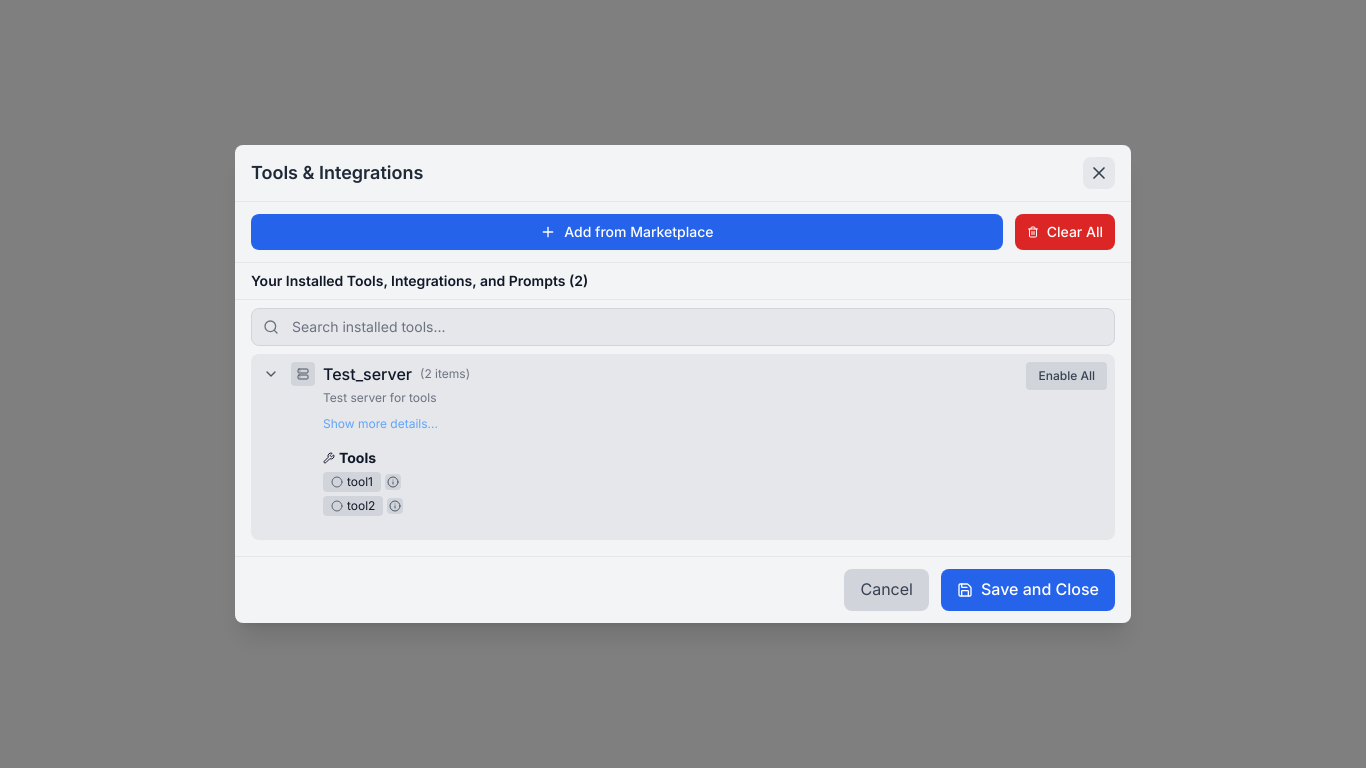
Test: ToolsPanel - Unsaved Changes Dialog › should cancel and stay open when clicking Cancel in dialog
// Make a change
Click the button "tool1" at (352, 482), box [323,472,381,492]
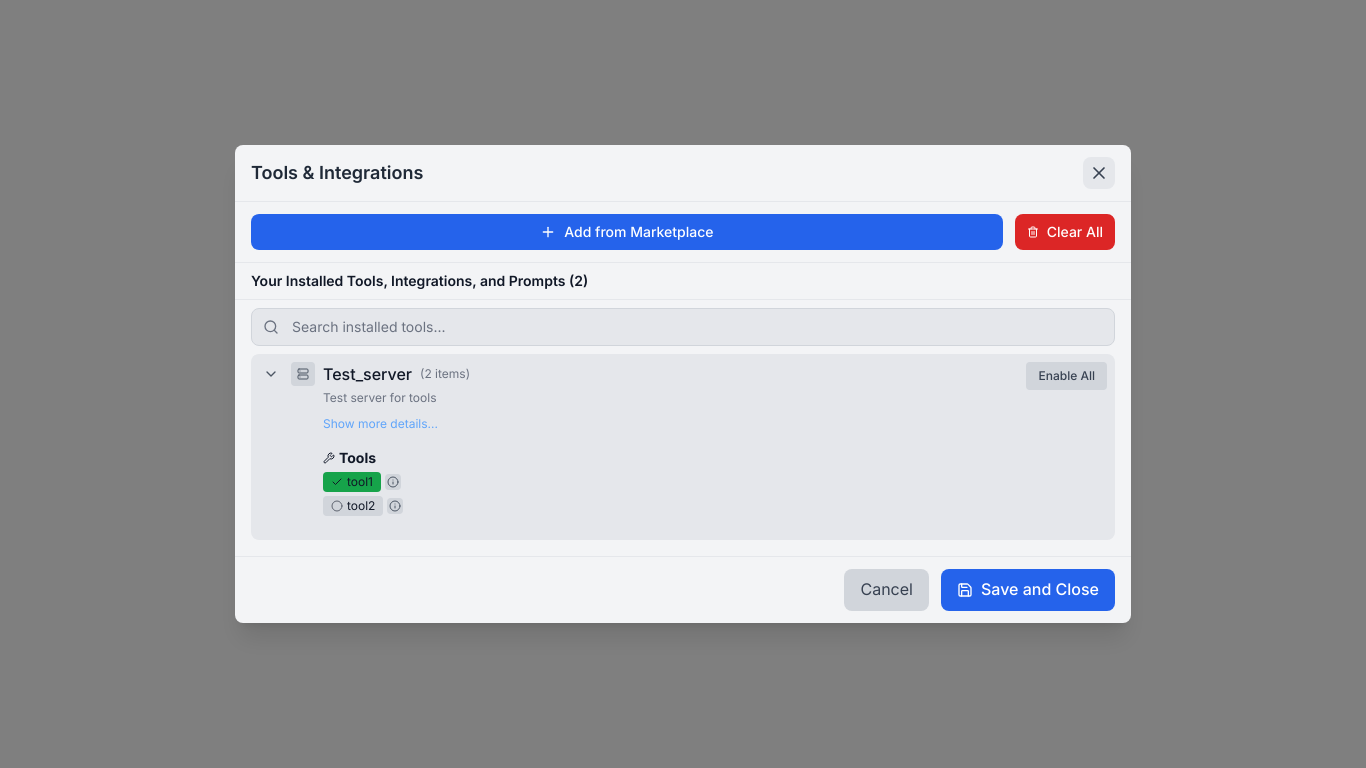
// Try to close
Click the text "Tools & Integrations" at (82, 384), box [0,0,1365,767]
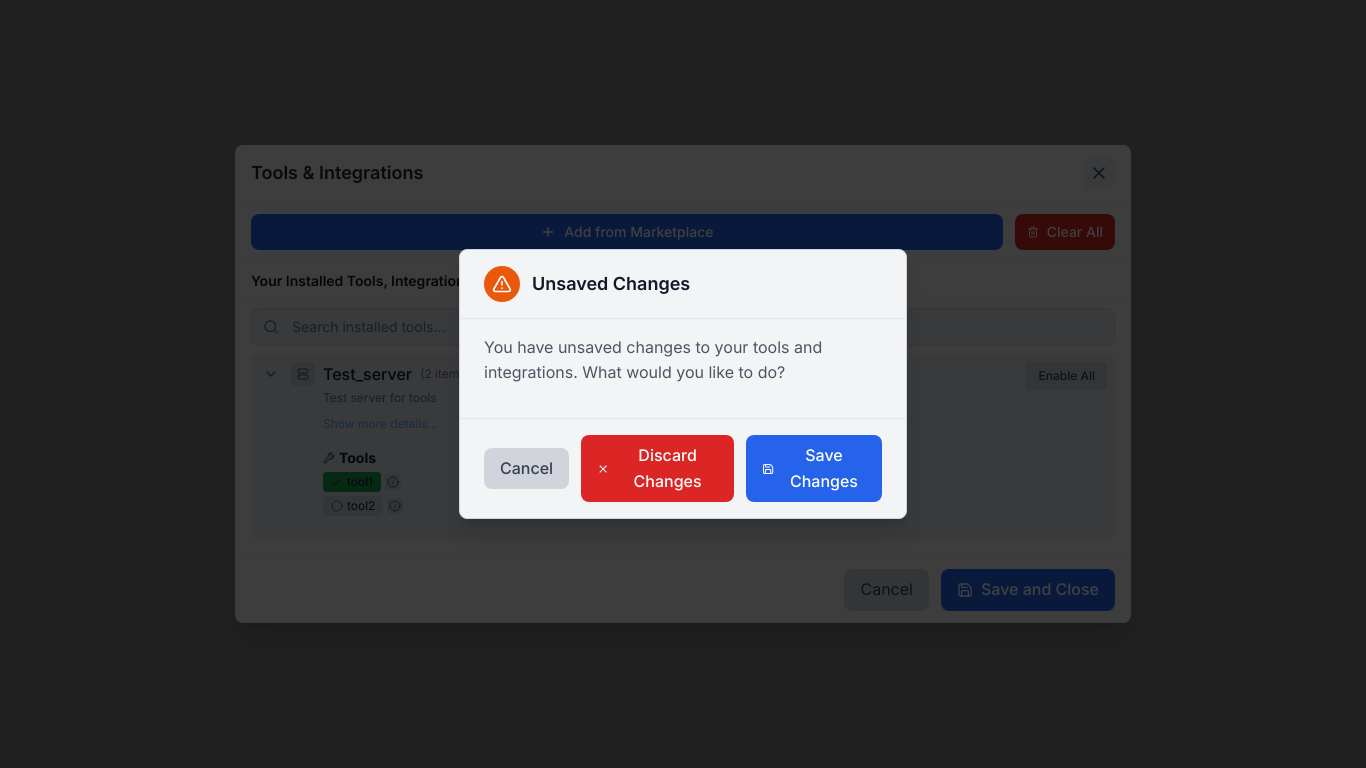
Expected: the heading "Unsaved Changes" is shown, [532,270,690,298]
// The dialog button should be the second one (index 1)
Click the button "Cancel" at (527, 469), box [484,448,569,489]
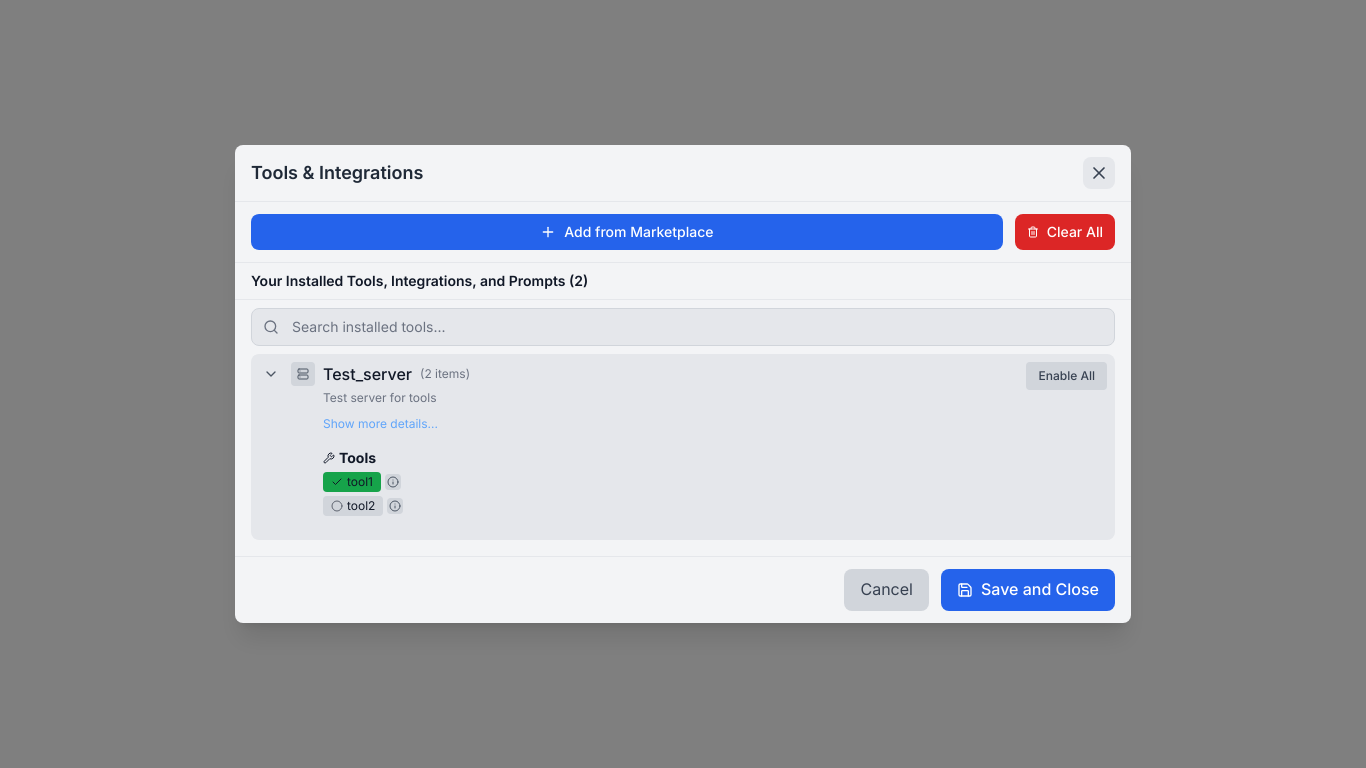
Expected: the heading "Unsaved Changes" is gone
